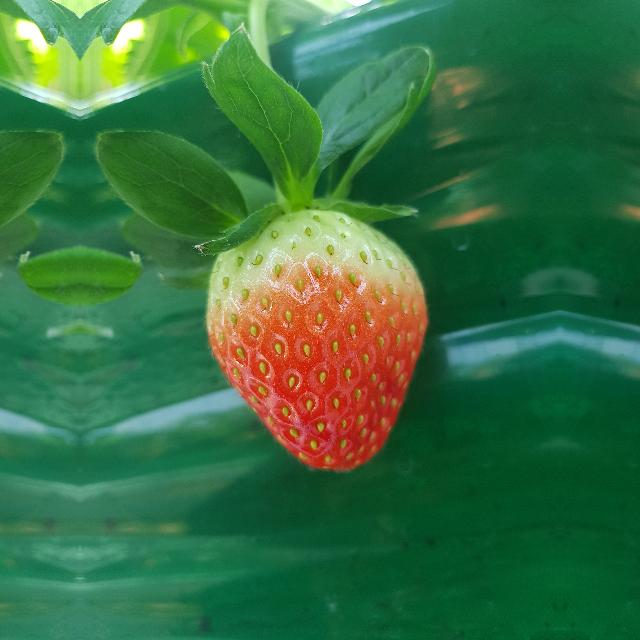Health_75: (205, 210, 428, 472)
